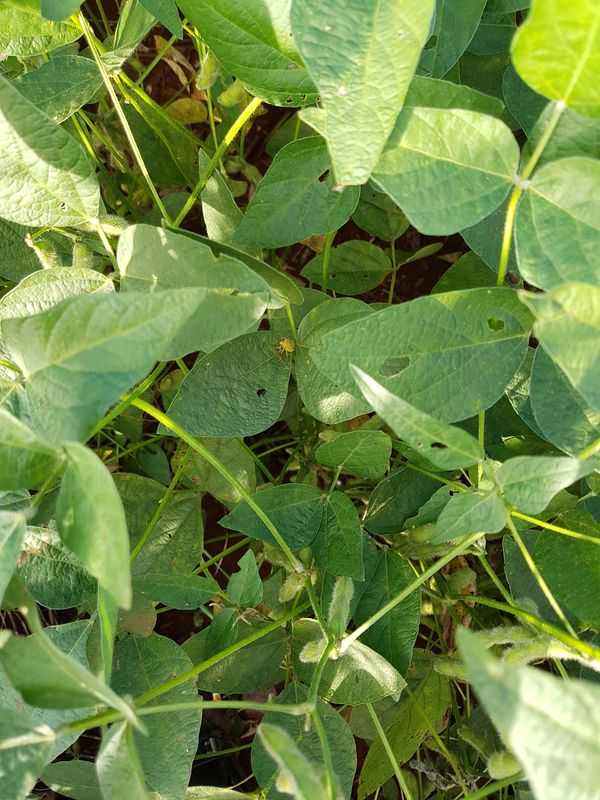Euschistus_heros_ninfa: (272, 333, 301, 361)
